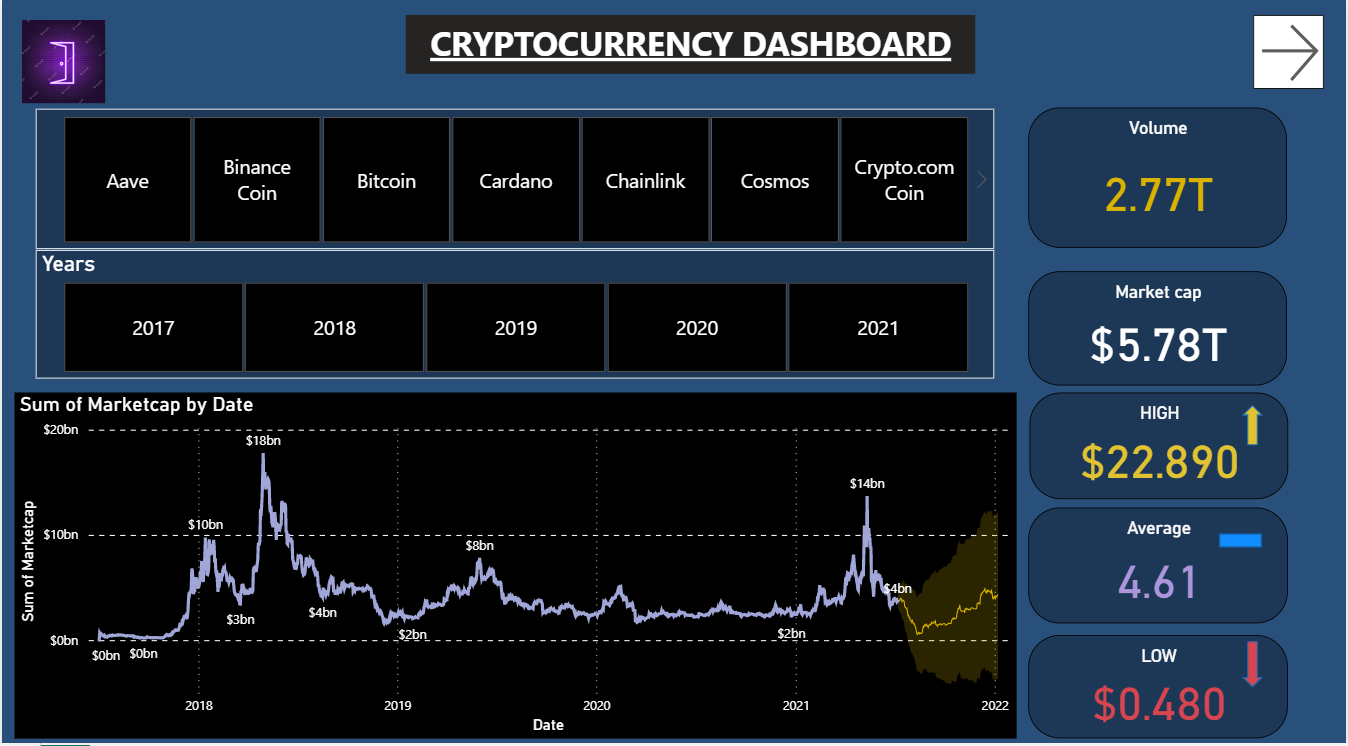

What the dashboard file says about the page in this screenshot:
{"tool":"powerbi","page":{"name":"Page 1","canvas":[1280,720],"ordinal":0},"visuals":[{"type":"slicer","title":"Crypto currency","fields":{"Values":["CryptoData.Name"]},"box":[32.1,103.5,912.8,133.3],"z":0},{"type":"slicer","title":"Years","fields":{"Values":["CryptoData.Year"]},"box":[32.5,237.5,912.5,122.5],"z":1000},{"type":"lineChart","fields":{"Y":["Sum(CryptoData.Marketcap)"],"Category":["CryptoData.Date"]},"box":[11.9,373.7,954.4,329.7],"z":2000},{"type":"actionButton","box":[1191.2,13.8,67.5,70],"z":3000},{"type":"image","box":[11.9,14.3,92.8,89.3],"z":4000},{"type":"card","title":"Market cap","fields":{"Values":["Sum(CryptoData.Marketcap)"]},"box":[977.5,258.8,246.2,108.8],"z":5000},{"type":"card","title":"Volume","fields":{"Values":["Sum(CryptoData.Volume)"]},"box":[977.5,102.5,246.2,133.8],"z":6000},{"type":"card","title":"Average","fields":{"Values":["Avg(CryptoData.Average)"]},"box":[977.5,483.8,247.5,110],"z":7000},{"type":"card","title":"LOW","fields":{"Values":["Min(CryptoData.Low)"]},"box":[977.5,605,247.5,98.8],"z":8000},{"type":"card","title":"HIGH","fields":{"Values":["Max(CryptoData.High)"]},"box":[978.8,373.8,246.2,101.2],"z":9000},{"type":"textbox","box":[384.4,14.3,542.7,55.9],"z":10000},{"type":"shape","box":[1181.2,386.2,20,38.8],"z":11000},{"type":"shape","box":[1181.2,611.2,20,43.8],"z":12000},{"type":"shape","box":[1160,508.8,40,12.5],"z":13000}]}

Visuals, with their boxes in screenshot pixels (x1, y1, x2, y2), scaled from the page's 1280x720 canvas onto the 1348x746 screenshot:
"Crypto currency" slicer: (left=34, top=107, right=995, bottom=245)
"Years" slicer: (left=34, top=246, right=995, bottom=373)
lineChart - Sum(CryptoData.Marketcap) x CryptoData.Date: (left=13, top=387, right=1018, bottom=729)
actionButton: (left=1254, top=14, right=1326, bottom=87)
image: (left=13, top=15, right=110, bottom=107)
"Market cap" card: (left=1029, top=268, right=1289, bottom=381)
"Volume" card: (left=1029, top=106, right=1289, bottom=245)
"Average" card: (left=1029, top=501, right=1290, bottom=615)
"LOW" card: (left=1029, top=627, right=1290, bottom=729)
"HIGH" card: (left=1031, top=387, right=1290, bottom=492)
textbox: (left=405, top=15, right=976, bottom=73)
shape: (left=1244, top=400, right=1265, bottom=440)
shape: (left=1244, top=633, right=1265, bottom=679)
shape: (left=1222, top=527, right=1264, bottom=540)
